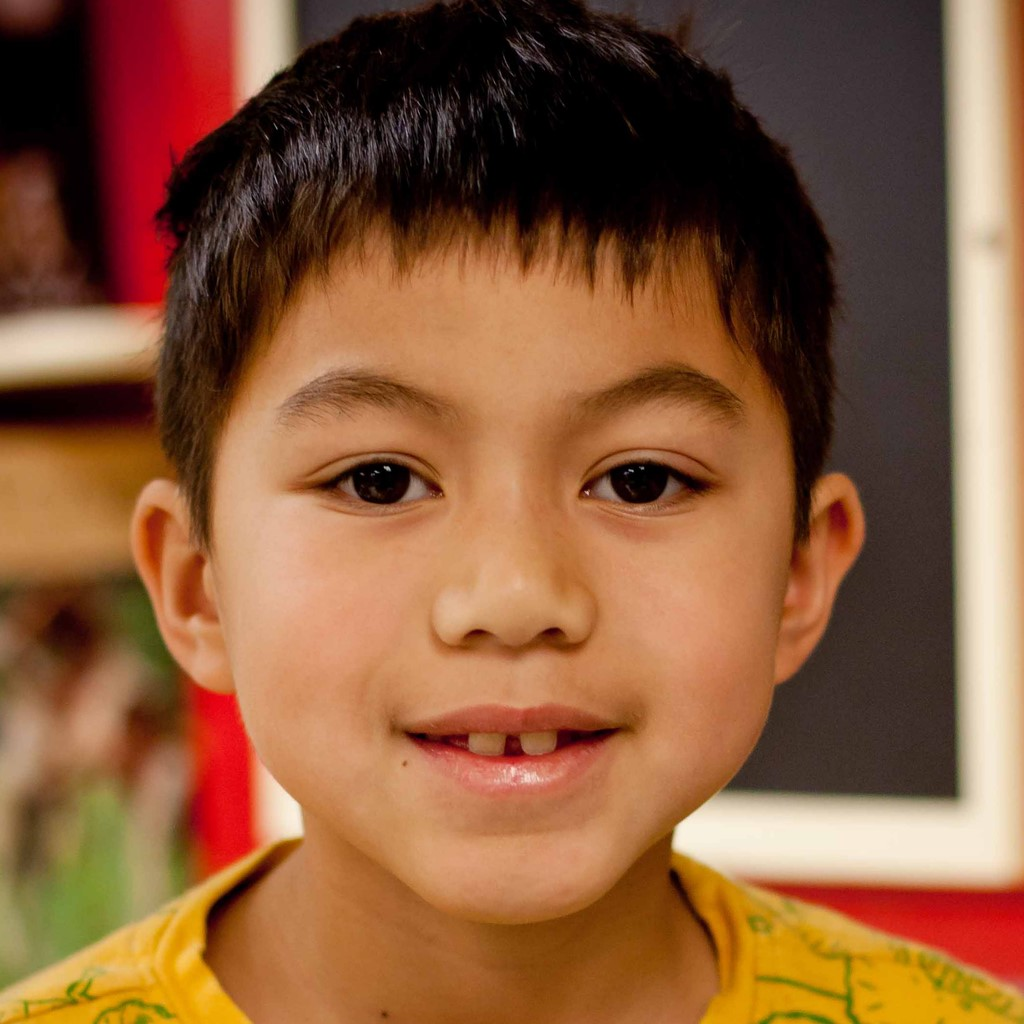sin_mascara: (189, 132, 843, 939)
